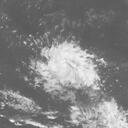cyclone: (29, 41, 100, 97)
